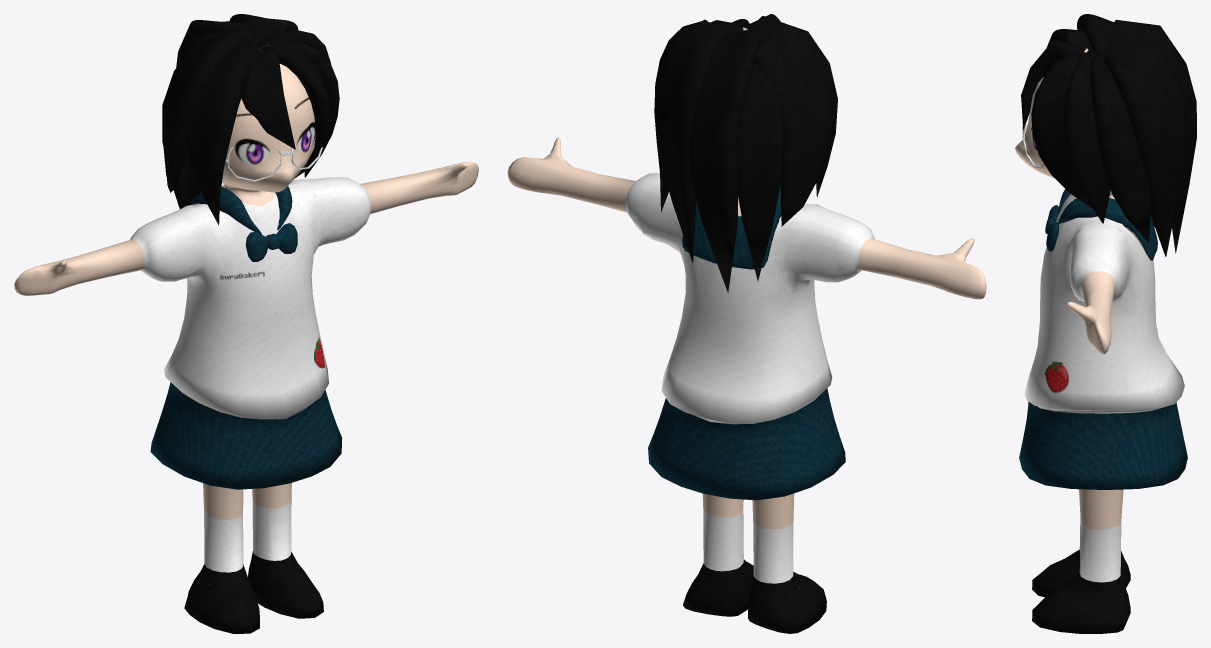
The model's file is MainCharacter_Final.fbx.
The picture shows the model from 3 angles, left to right: view 1: azimuth 30°, elevation 25°; view 2: azimuth 150°, elevation 25°; view 3: azimuth 270°, elevation 25°; orthographic projection. The views are drawn at different scales.
Parts seen in each view (by area): view 1: MainCharacter_Final; view 2: MainCharacter_Final; view 3: MainCharacter_Final.
Part boxes in pixels (left/top/right/bottom): MainCharacter_Final: left=14, top=14, right=478, bottom=633; MainCharacter_Final: left=507, top=14, right=986, bottom=633; MainCharacter_Final: left=1015, top=14, right=1196, bottom=633.
Size of the model in its own units: 698 by 828 by 236.
1 material, 1 textured.
